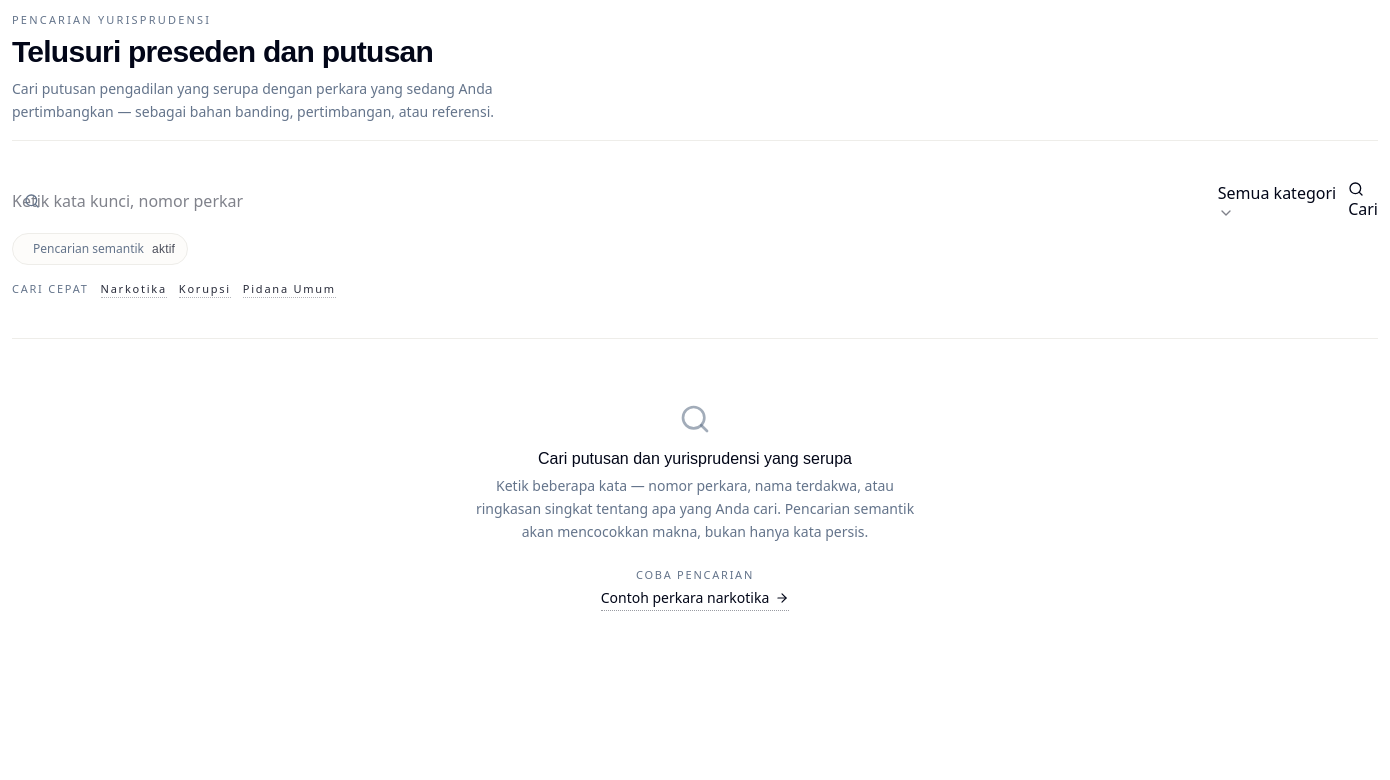
Scenario: CasesPage › renders CaseRecord results returned by the new search endpoint
This screenshot has width=1390, height=780.
Type "korupsi proyek" into the field with placeholder "Ketik kata kunci, nomor perkara, atau deskripsi singkat…".
click(128, 200); type("korupsi proyek")  # box x1=12 y1=188 x2=243 y2=212
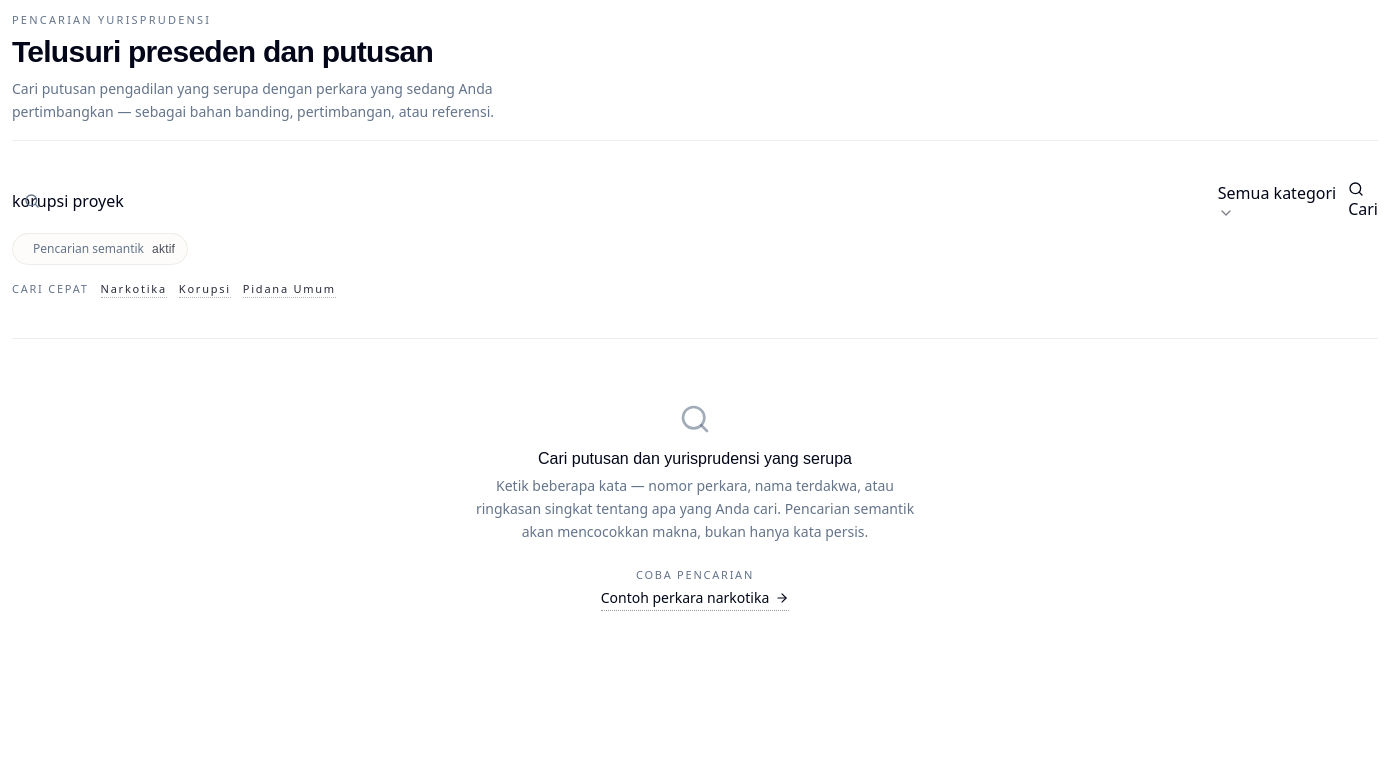
Click the button "Cari".
click(1363, 200)  # box x1=1348 y1=180 x2=1378 y2=220
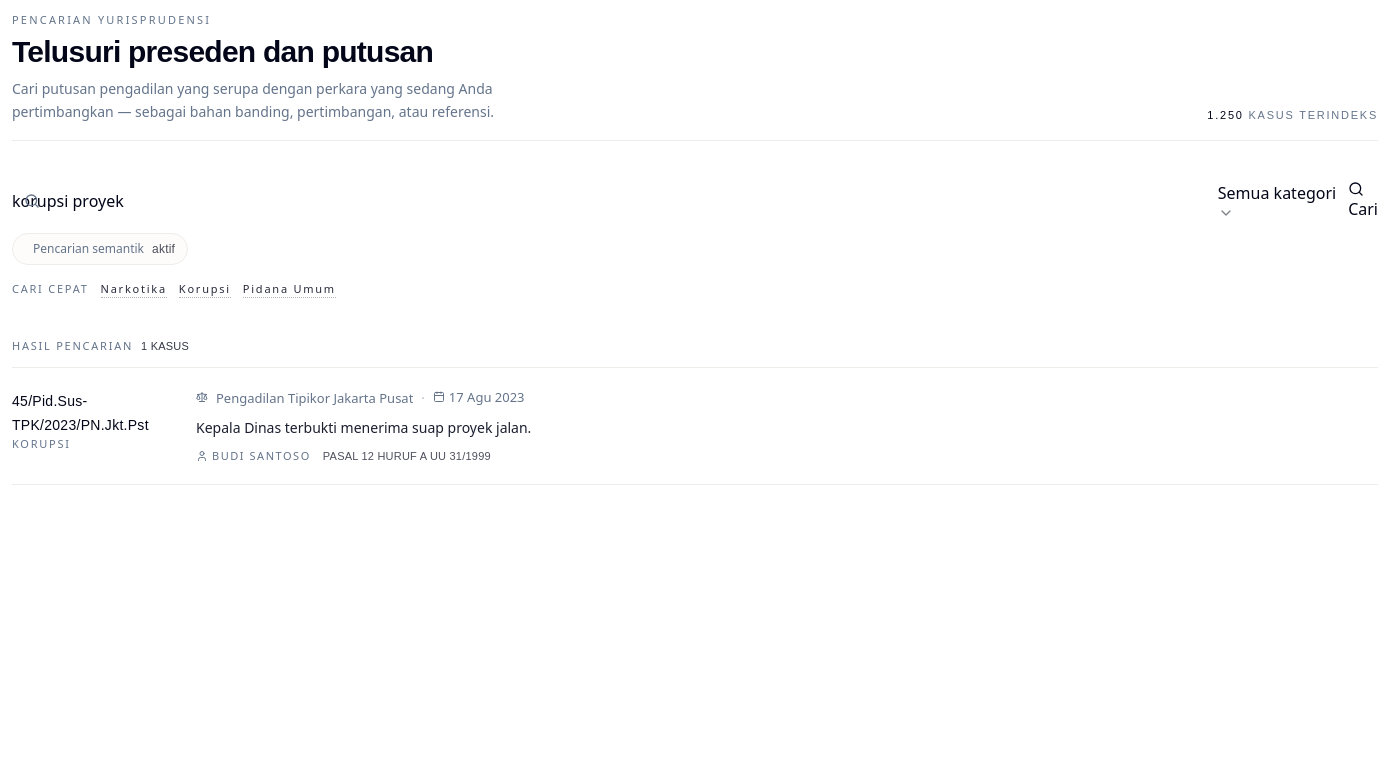
expect the text "45/Pid.Sus-TPK/2023/PN.Jkt.Pst" is shown: met, box x1=12 y1=392 x2=149 y2=432
expect the text "Pengadilan Tipikor Jakarta Pusat" is shown: met, box x1=216 y1=389 x2=413 y2=409
expect the text "Budi Santoso" is shown: met, box x1=196 y1=448 x2=311 y2=464
